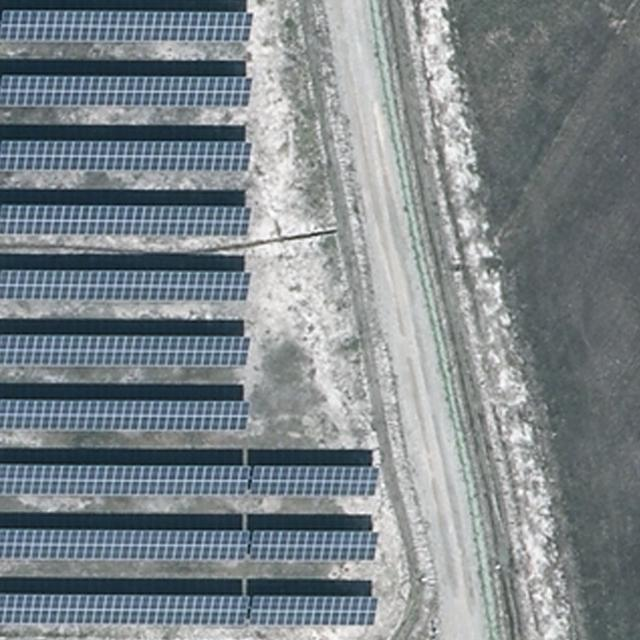panel: (1, 396, 252, 432), (0, 332, 251, 368), (0, 526, 250, 562), (0, 462, 251, 497), (0, 73, 254, 107), (0, 8, 254, 42), (0, 268, 252, 302), (0, 203, 252, 237), (0, 592, 251, 626), (0, 139, 252, 171), (246, 528, 380, 562), (246, 594, 380, 626), (248, 464, 381, 496)
